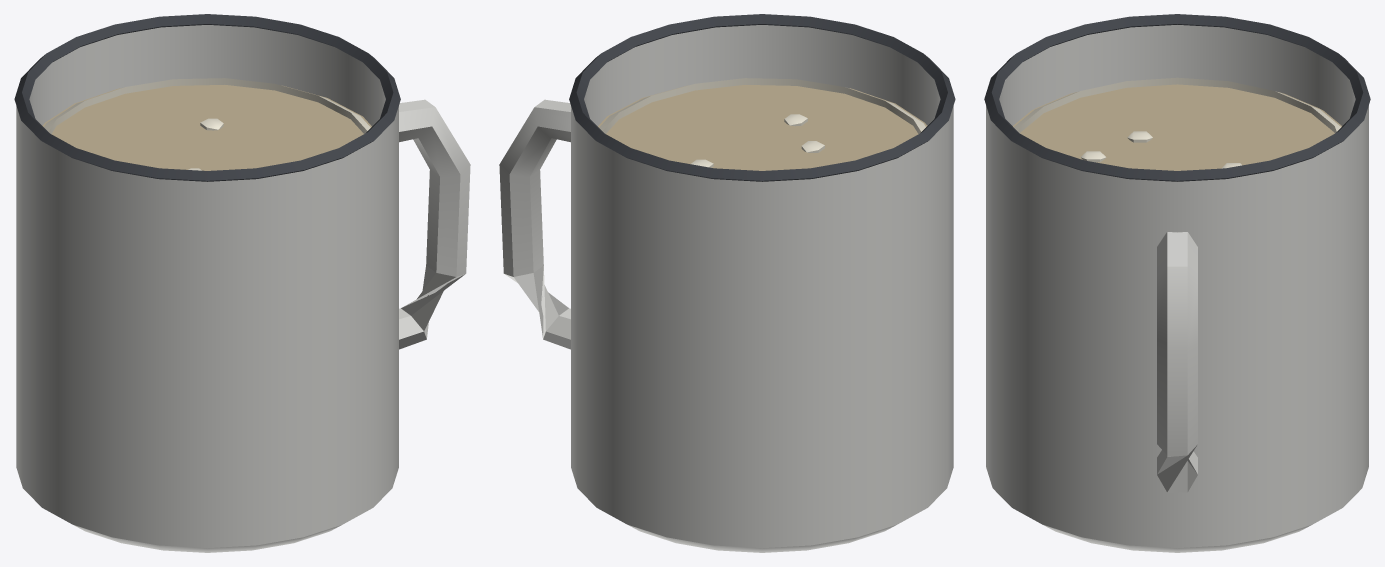
The model's file is cook_milk_tea.glb.
3 renders of one model, left to right at view 1: azimuth 30°, elevation 25°; view 2: azimuth 150°, elevation 25°; view 3: azimuth 270°, elevation 25°, orthographic.
Visible parts, largest first — view 1: body; view 2: body; view 3: body.
Boxes of the visible parts, x1=… form: body: x1=14, y1=14, x2=470, y2=552; body: x1=499, y1=14, x2=955, y2=552; body: x1=984, y1=14, x2=1370, y2=552.
Size of the model in its own units: 0.0526 by 0.0458 by 0.0414.
